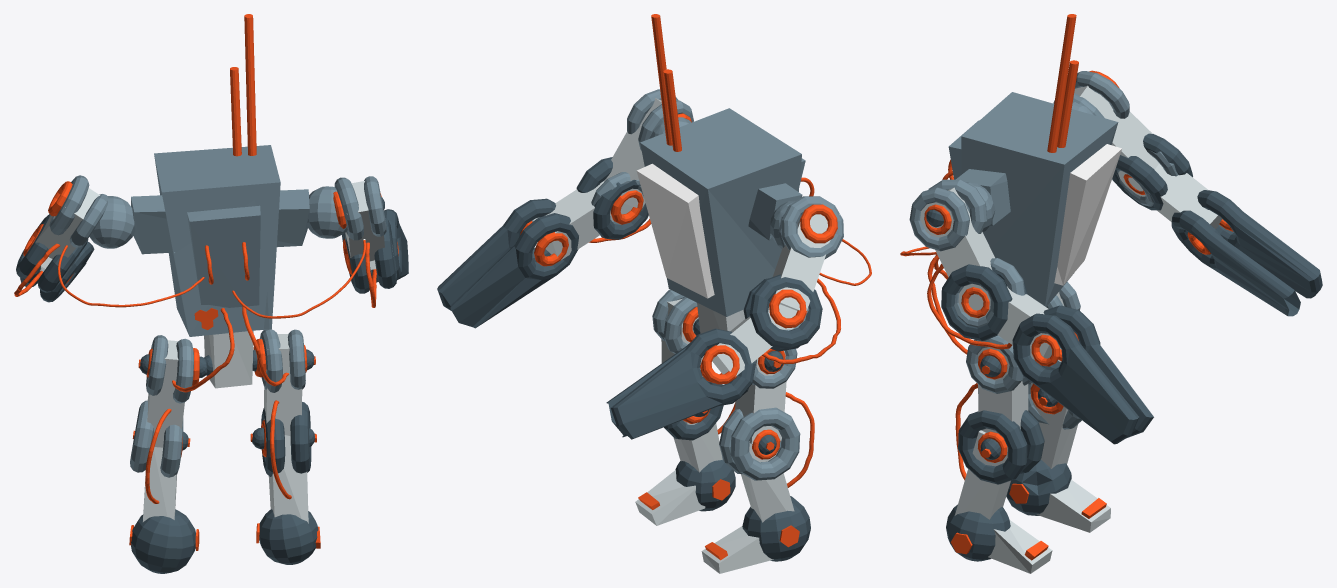
The model's file is Mechsuit.glb.
The picture shows the model from 3 angles, left to right: view 1: azimuth 30°, elevation 25°; view 2: azimuth 150°, elevation 25°; view 3: azimuth 270°, elevation 25°; orthographic projection. The views are drawn at different scales.
Parts seen in each view (by area): view 1: group1016651616, group1852206783, group1019676890, group468036560, group181849226, group1820579593, group1733414539, group1823194642, group277630035, group1960724010, group385870021, group627186481 (+17 smaller); view 2: group1016651616, group1380939108, group1500543365, group468036560, group487603155, group181849226, group1698367099, group1019676890, group1733414539, group834445771, group1823194642, group1882637332 (+12 smaller); view 3: group1016651616, group1380939108, group1500543365, group181849226, group1019676890, group468036560, group487603155, group1823194642, group1733414539, group1882637332, group385870021, group834445771 (+5 smaller).
Part boxes in pixels (box(x1,y1,x2,y2)): group1016651616: box(154, 145, 280, 334); group1852206783: box(187, 205, 260, 307); group1019676890: box(260, 329, 311, 476); group468036560: box(16, 175, 107, 292); group181849226: box(334, 176, 397, 293); group1820579593: box(131, 189, 309, 254); group1733414539: box(131, 509, 195, 573); group1823194642: box(259, 509, 318, 564); group277630035: box(204, 330, 253, 388); group1960724010: box(174, 200, 256, 336); group385870021: box(268, 435, 308, 523); group627186481: box(147, 340, 184, 447); group1016651616: box(640, 108, 801, 316); group1380939108: box(437, 172, 645, 328); group1500543365: box(606, 304, 808, 439); group468036560: box(743, 196, 843, 351); group487603155: box(636, 163, 714, 298); group181849226: box(576, 89, 693, 239); group1698367099: box(730, 407, 800, 480); group1019676890: box(652, 289, 723, 440); group1733414539: box(742, 496, 810, 561); group834445771: box(635, 470, 705, 525); group1823194642: box(675, 457, 735, 511); group1882637332: box(701, 526, 773, 573); group1016651616: box(961, 92, 1118, 306); group1380939108: box(954, 258, 1153, 444); group1500543365: box(1116, 150, 1322, 316); group181849226: box(909, 179, 1027, 340); group1019676890: box(958, 335, 1044, 484); group468036560: box(1053, 71, 1192, 210); group487603155: box(1054, 144, 1122, 285); group1823194642: box(946, 504, 1010, 561); group1733414539: box(1006, 459, 1071, 515); group1882637332: box(1036, 479, 1110, 532); group385870021: box(954, 430, 1010, 519); group834445771: box(988, 520, 1052, 573).
Size of the model in its own units: 1.02 by 1.29 by 0.901.
